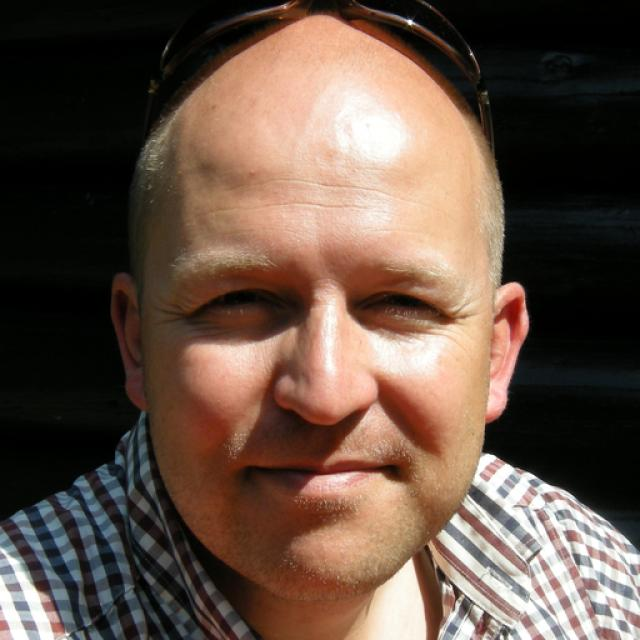Acne: (244, 167, 260, 180)
Wrinkle: (229, 172, 433, 209), (192, 195, 383, 220), (365, 224, 442, 238)
